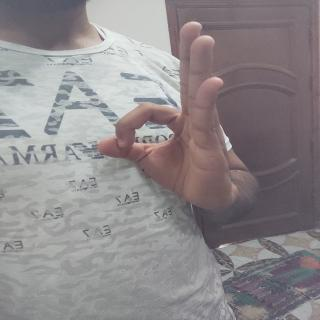Space: (105, 8, 233, 240)
